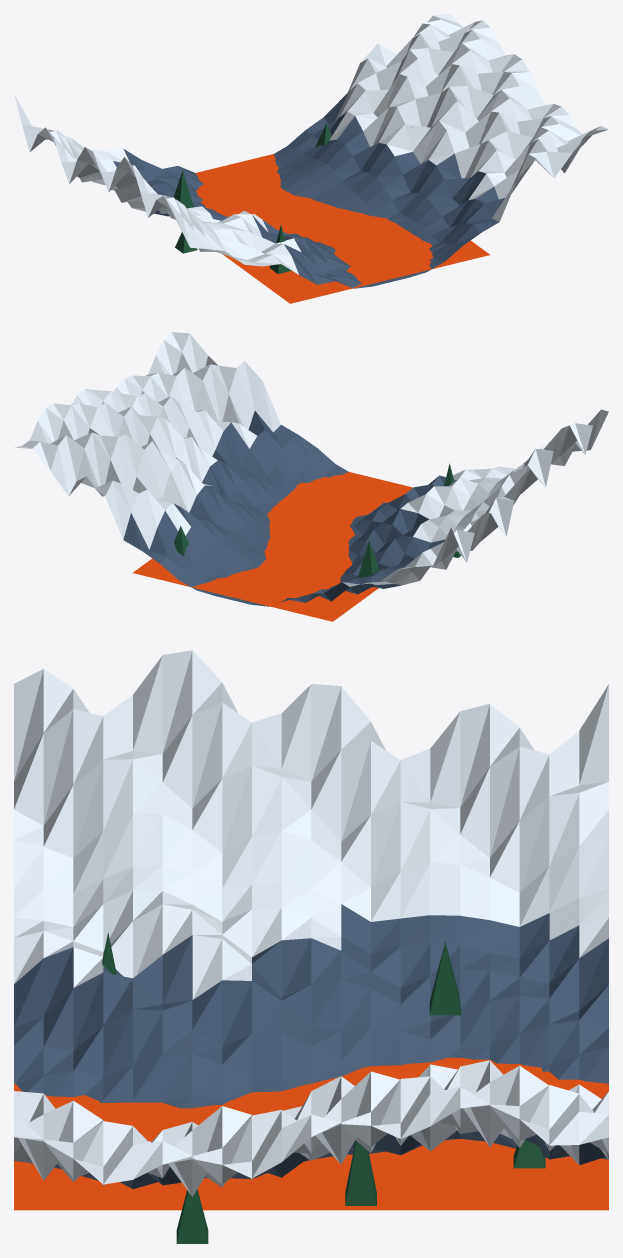
The model's file is terrain_alpine_loop_chunk.obj.
3 renders of one model, top to bottom at view 1: azimuth 30°, elevation 25°; view 2: azimuth 150°, elevation 25°; view 3: azimuth 270°, elevation 25°, orthographic. The views are drawn at different scales.
Visible parts, largest first — view 1: terrain_peaks, terrain_ground, terrain_fluid, terrain_props; view 2: terrain_peaks, terrain_ground, terrain_fluid, terrain_props; view 3: terrain_peaks, terrain_ground, terrain_fluid, terrain_props.
Part boxes in pixels (x1,y1,x2,y2): terrain_peaks: (14, 14, 608, 274); terrain_ground: (113, 91, 504, 288); terrain_fluid: (175, 154, 489, 303); terrain_props: (174, 123, 412, 273); terrain_peaks: (14, 332, 608, 586); terrain_ground: (123, 411, 455, 606); terrain_fluid: (133, 472, 412, 621); terrain_props: (174, 463, 461, 577); terrain_peaks: (14, 650, 608, 1196); terrain_ground: (14, 904, 608, 1188); terrain_fluid: (14, 1057, 608, 1210); terrain_props: (102, 932, 545, 1243).
Bounding box in the file's own units: 96 × 30.28 × 60.
